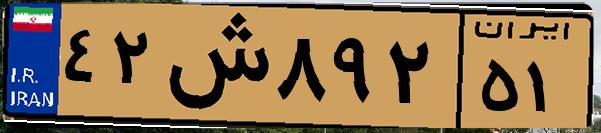1: (525, 38, 570, 115)
2: (385, 28, 445, 110), (110, 28, 158, 98)
4: (57, 26, 110, 100)
5: (475, 38, 525, 113)
8: (270, 28, 330, 110)
9: (330, 28, 385, 110)
ش: (158, 12, 270, 120)
